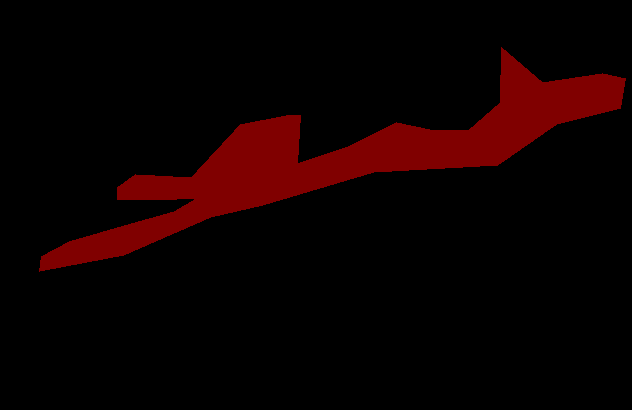fire: (39, 47, 625, 271)
